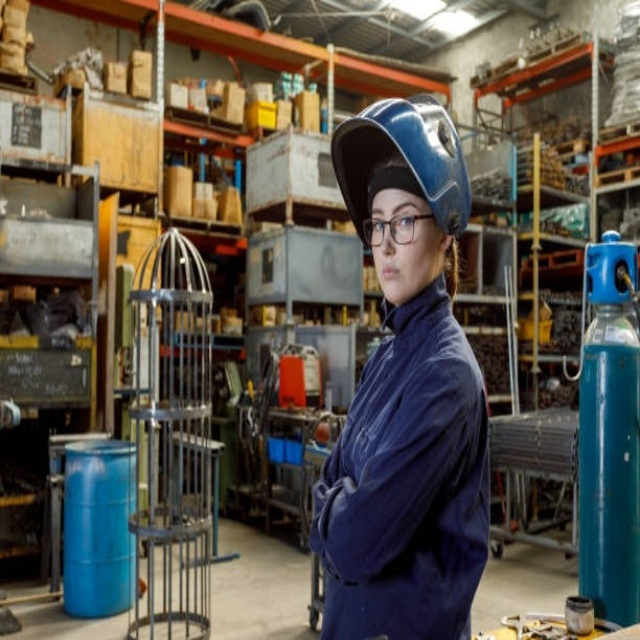Gafas: (362, 213, 436, 247)
Sin_mascara: (375, 259, 404, 295)
